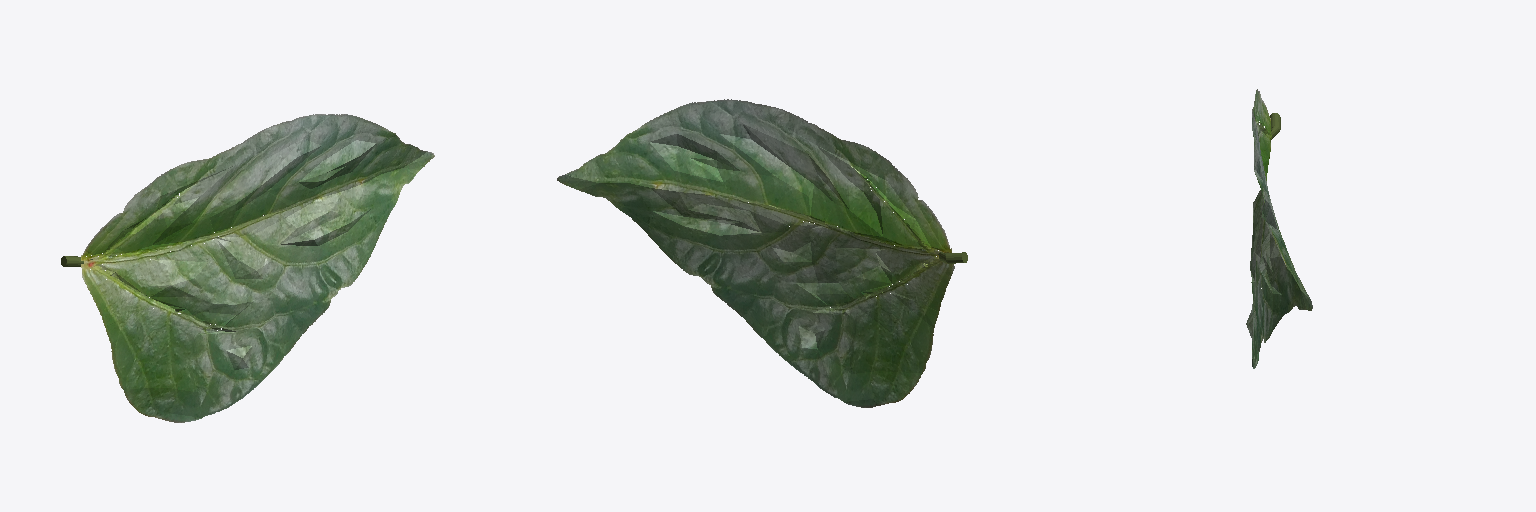
3 views of the same model, side by side, from view 1: azimuth 30°, elevation 25°; view 2: azimuth 150°, elevation 25°; view 3: azimuth 270°, elevation 25° (orthographic).
Visible parts, largest first — view 1: leaf, veins; view 2: leaf, veins; view 3: leaf.
Part boxes in pixels (x1,y1,x2,y2): leaf: (82, 114, 434, 422); veins: (81, 193, 311, 331); leaf: (557, 99, 954, 407); veins: (729, 178, 951, 312); leaf: (1246, 89, 1312, 368).
Size of the model in its own units: 1.01 by 0.6969 by 0.152.
2 materials, 1 textured.